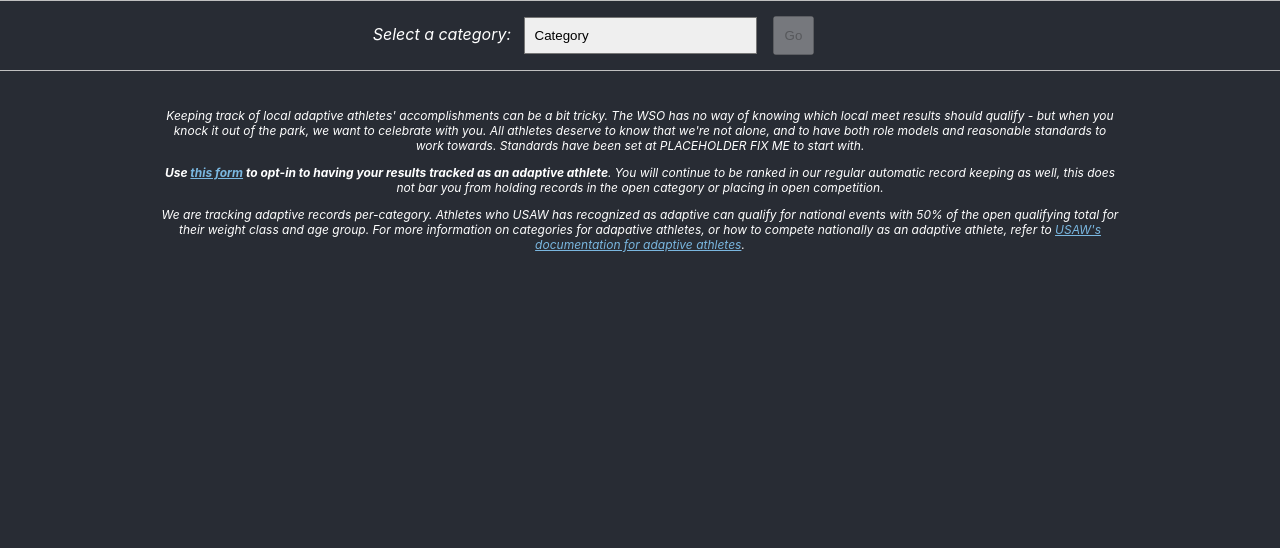
Scenario: AdaptiveRecords (user-based) › returning to an already-viewed category refetches nothing
Select "Deaf, Deafened, or Hard of Hearing" in the dropdown named "Category" at (640, 36), box [524,17,756,54]
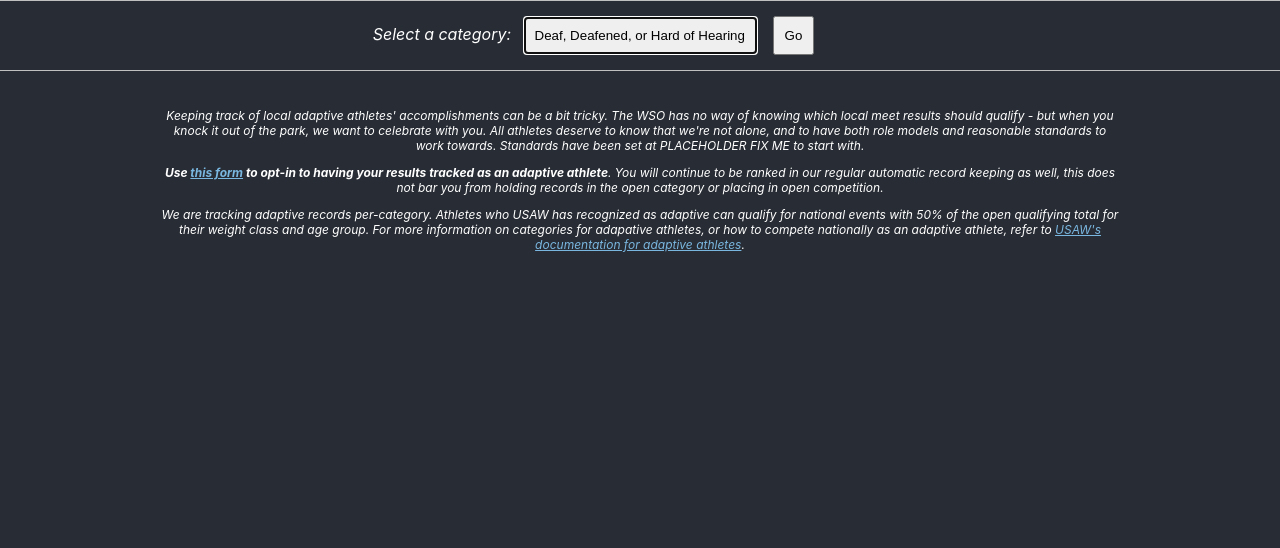
Click the button "Go" at (793, 36), box [772,16,814,55]
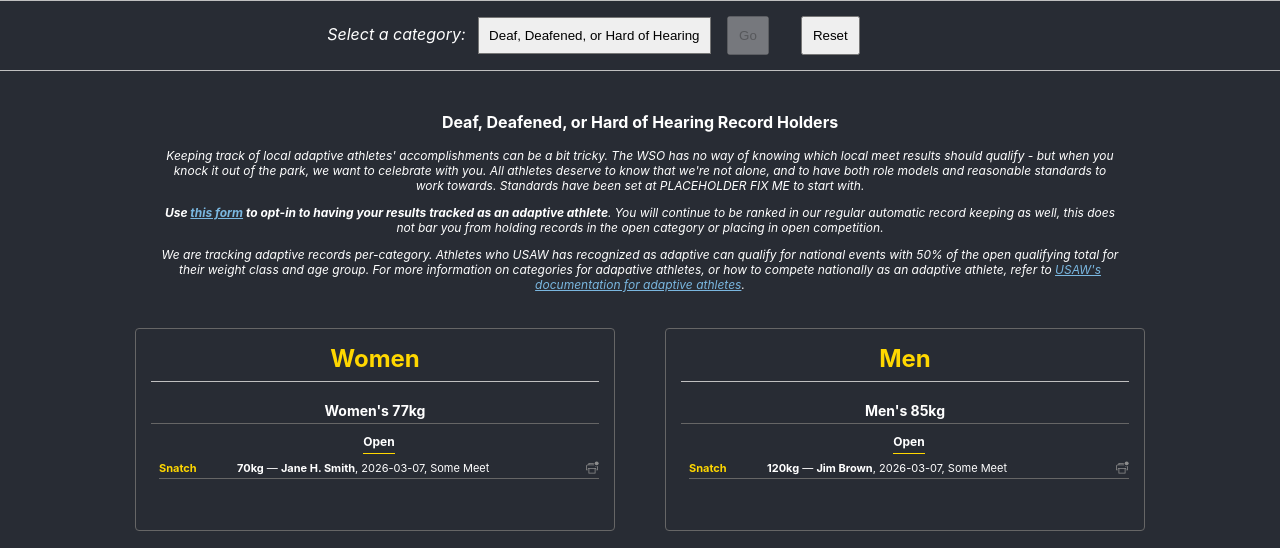
Expected: the text "Jane H. Smith" is shown, [281,461,355,475]
Click the button "Reset" at (830, 36), box [801,16,860,55]
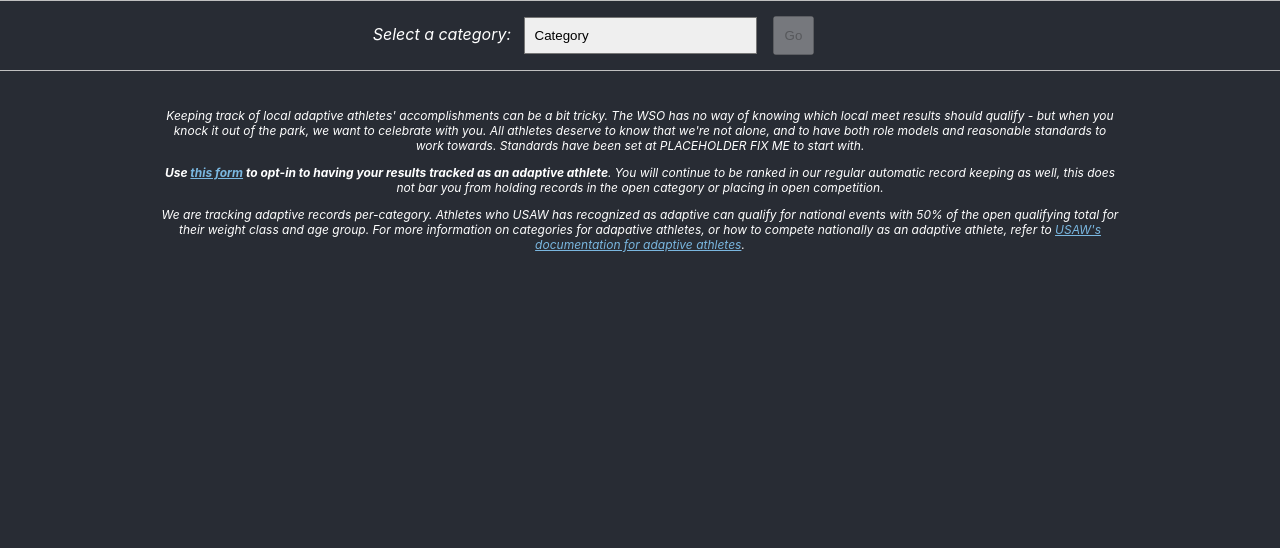
Expected: the text "Jane H. Smith" is gone
Select "Deaf, Deafened, or Hard of Hearing" in the dropdown named "Category" at (640, 36), box [524,17,756,54]
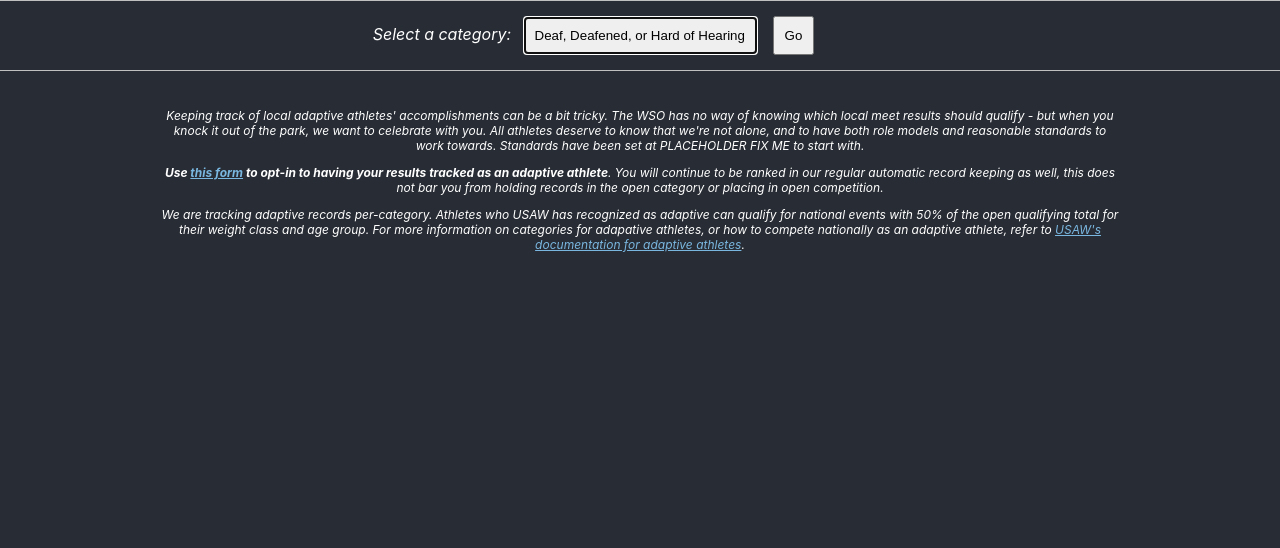
Click the button "Go" at (793, 36), box [772,16,814,55]
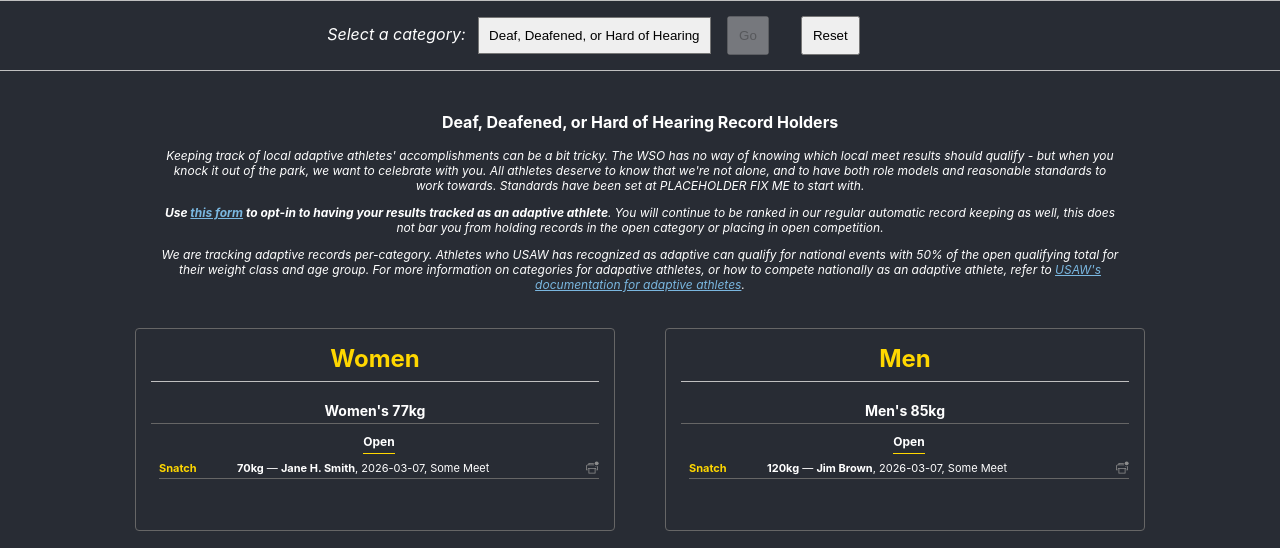
Expected: the text "Jane H. Smith" is shown, [281,461,355,475]
